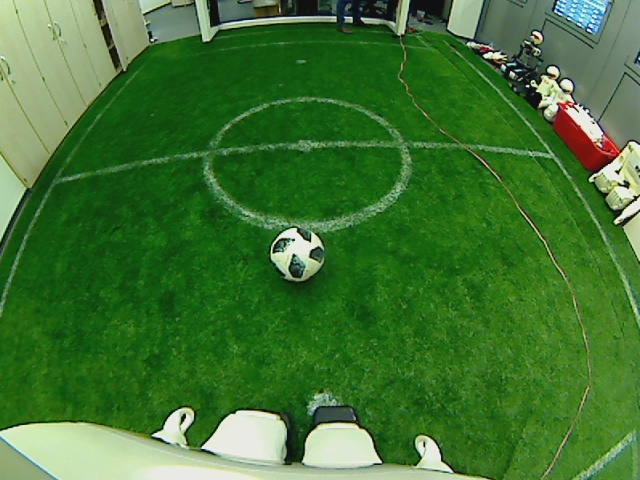ball: (267, 225, 327, 283)
